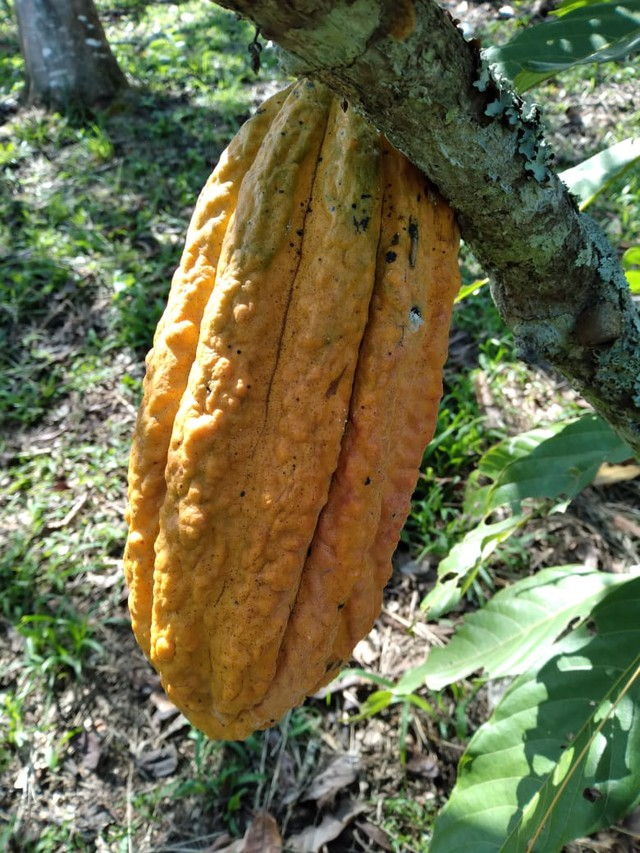Health: (119, 63, 460, 750)
